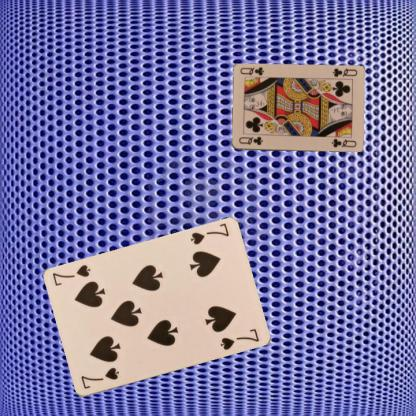7s: (78, 365, 120, 391), (188, 221, 230, 246)
Qc: (236, 134, 264, 146), (330, 66, 358, 78)
